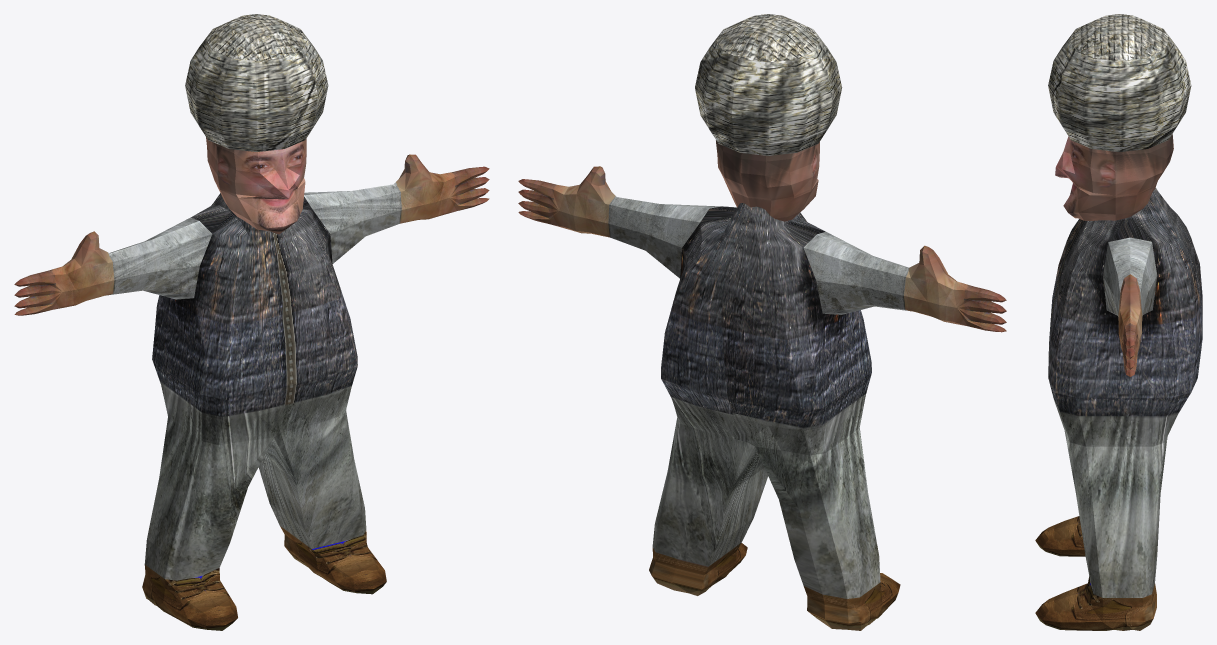
Rendered from FatTerrorist.obj.
3 renders of one model, left to right at view 1: azimuth 30°, elevation 25°; view 2: azimuth 150°, elevation 25°; view 3: azimuth 270°, elevation 25°, orthographic. The views are drawn at different scales.
Visible parts, largest first — view 1: mesh03, mesh02, mesh01; view 2: mesh03, mesh02, mesh01; view 3: mesh03, mesh02, mesh01.
Part boxes in pixels (<box>): mesh03: <box>14,154,489,630</box>; mesh02: <box>185,14,328,151</box>; mesh01: <box>206,137,306,234</box>; mesh03: <box>518,166,1006,630</box>; mesh02: <box>695,14,842,155</box>; mesh01: <box>716,140,819,221</box>; mesh03: <box>1035,188,1202,630</box>; mesh02: <box>1048,14,1191,151</box>; mesh01: <box>1055,134,1173,220</box>.
Size of the model in its own units: 173 by 196 by 52.66.
